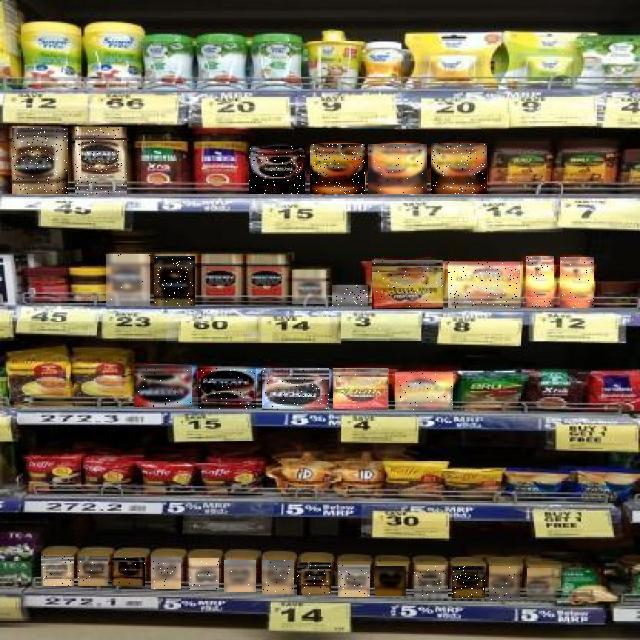Coffee: (12, 128, 68, 194), (75, 128, 127, 196), (372, 260, 443, 309), (448, 263, 520, 309), (368, 144, 427, 194), (431, 143, 487, 194), (262, 368, 329, 410), (310, 144, 365, 194), (249, 146, 305, 194), (134, 365, 192, 407), (334, 368, 392, 410), (198, 368, 256, 409), (107, 254, 151, 306), (395, 373, 453, 411), (154, 256, 195, 306), (560, 257, 594, 308), (526, 256, 554, 307), (292, 270, 326, 304), (297, 562, 331, 595), (263, 560, 295, 594), (414, 566, 448, 598), (490, 566, 522, 600), (452, 567, 485, 599), (224, 560, 256, 592), (339, 565, 371, 597), (41, 556, 74, 586), (151, 557, 181, 589), (189, 559, 219, 591), (376, 566, 408, 596), (528, 568, 558, 600), (112, 557, 145, 586), (78, 557, 108, 587), (332, 285, 368, 306)
